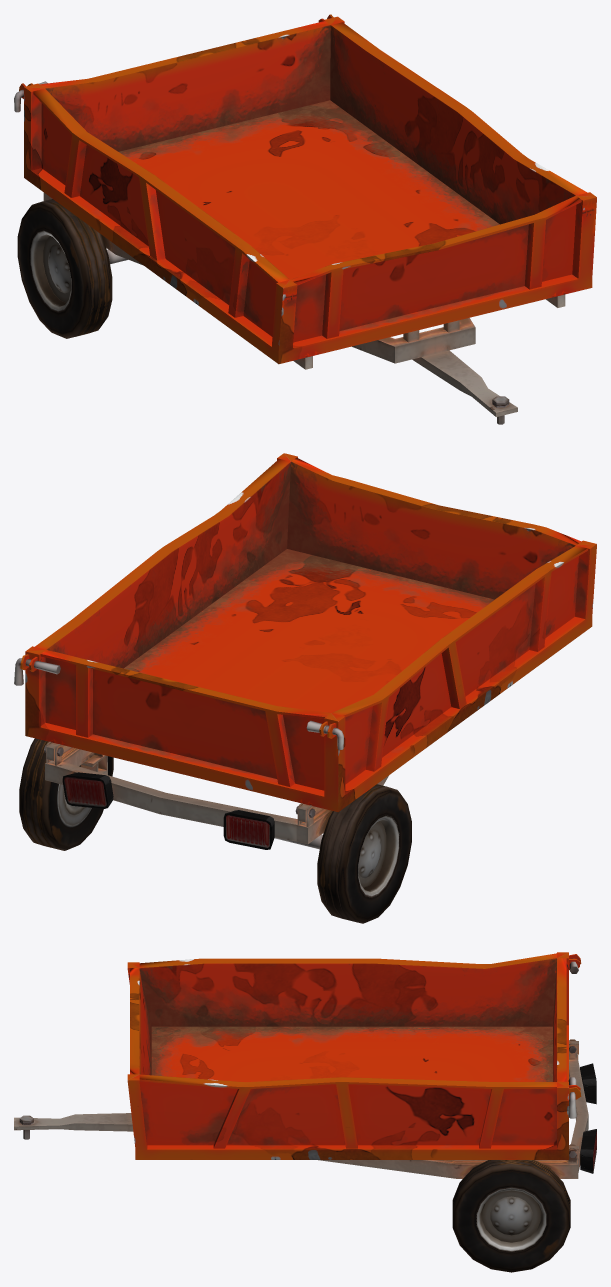
The model's file is Tractor01Trailer01.FBX.
3 views of the same model, one above another, from view 1: azimuth 30°, elevation 25°; view 2: azimuth 150°, elevation 25°; view 3: azimuth 270°, elevation 25° (orthographic). The views are drawn at different scales.
Parts seen in each view (by area): view 1: Tractor01Trailer01; view 2: Tractor01Trailer01; view 3: Tractor01Trailer01.
Part boxes in pixels (bbox=[...]): Tractor01Trailer01: bbox=[14, 14, 596, 424]; Tractor01Trailer01: bbox=[14, 453, 596, 923]; Tractor01Trailer01: bbox=[14, 952, 596, 1272].
Size of the model in its own units: 1.79 by 1.17 by 3.23.
